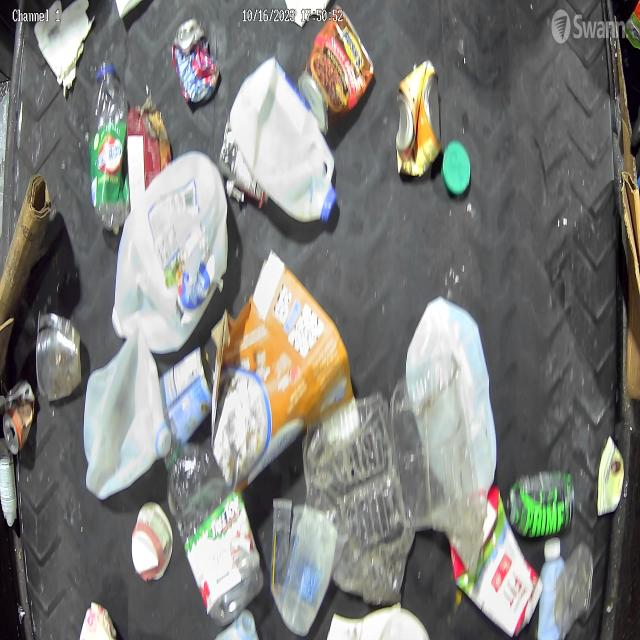can: (298, 3, 374, 138), (159, 344, 216, 448), (396, 58, 441, 181), (506, 470, 575, 541), (171, 18, 221, 110), (2, 379, 35, 456)
milk_jug: (110, 149, 230, 356), (405, 296, 498, 510), (228, 56, 338, 224), (83, 325, 171, 501)
non_white_jug: (449, 487, 543, 640)
plastic_bottle: (164, 439, 263, 622), (89, 55, 130, 232), (554, 541, 593, 636)
